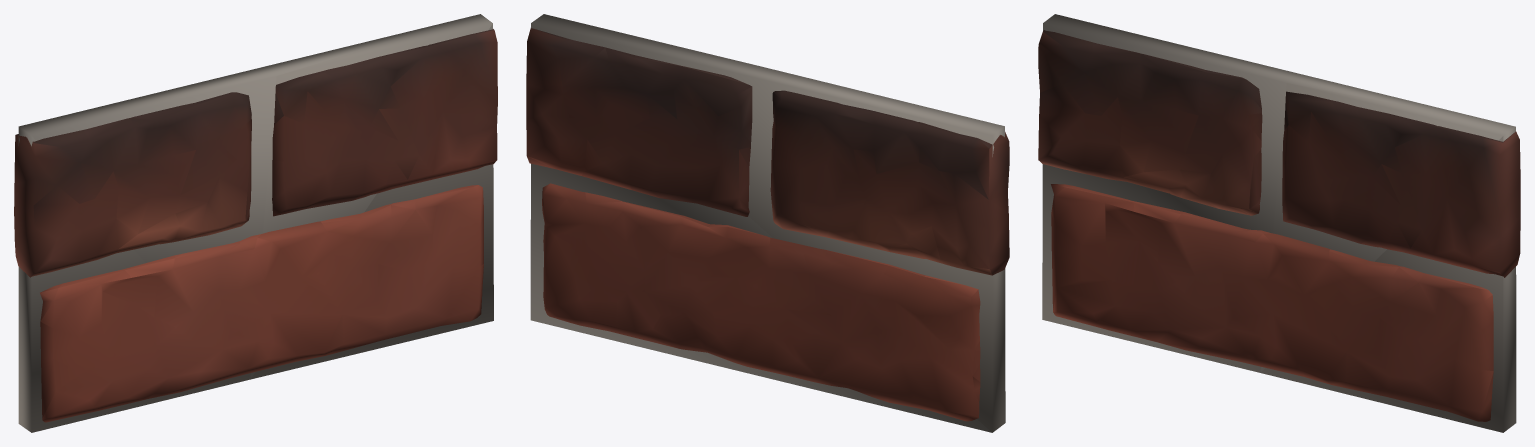
Rendered from ember_brick_wall_b_lod2.glb.
3 views of the same model, side by side, from view 1: azimuth 30°, elevation 25°; view 2: azimuth 150°, elevation 25°; view 3: azimuth 330°, elevation 25° (orthographic).
Visible parts, largest first — view 1: ember_brick_wall_b.001; view 2: ember_brick_wall_b.001; view 3: ember_brick_wall_b.001.
Boxes of the visible parts, x1,y1,x2,y2 form: ember_brick_wall_b.001: (14,14,497,432); ember_brick_wall_b.001: (526,14,1009,432); ember_brick_wall_b.001: (1038,14,1520,432).
Bounding box in the file's own units: 65 × 39.99 × 5.66.
